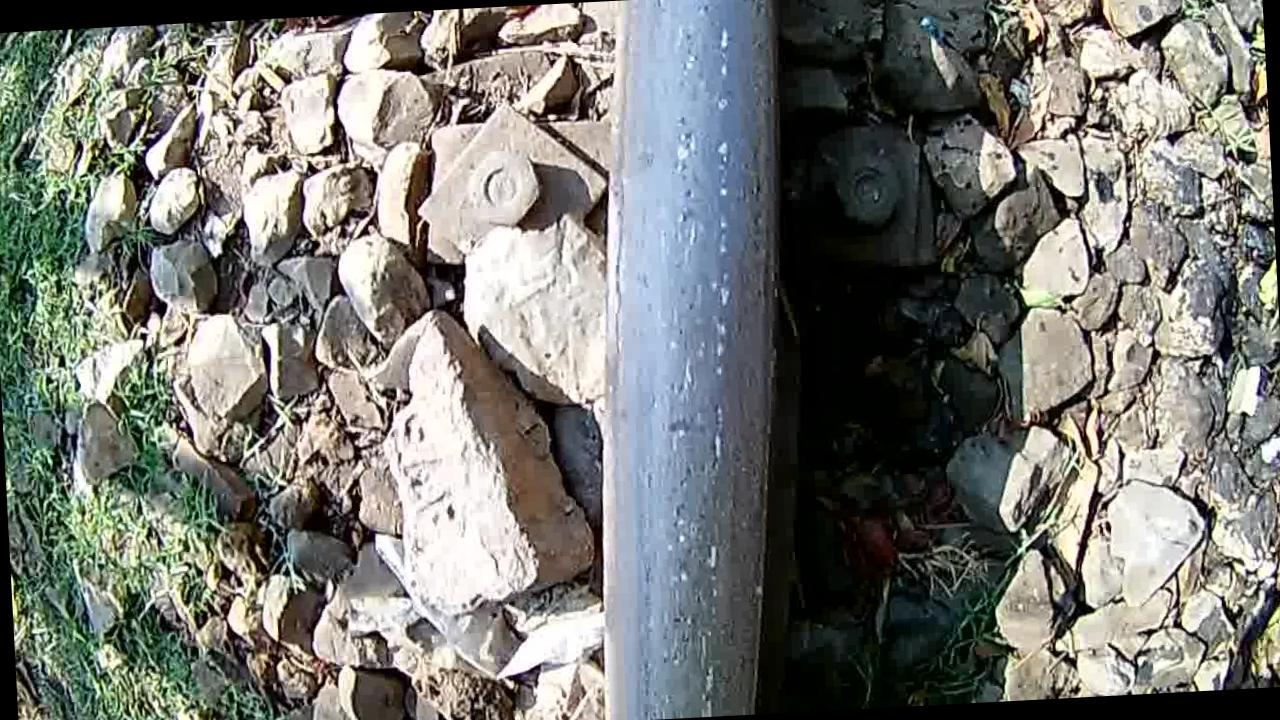clip_missing: (569, 0, 817, 720)
